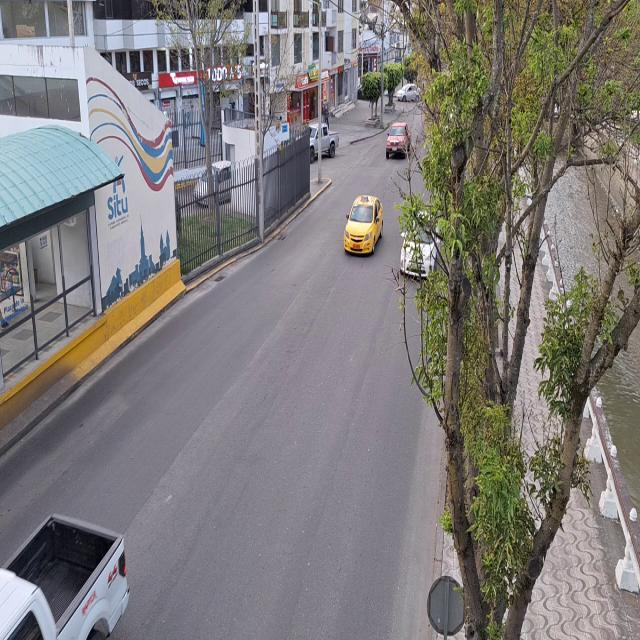CMT: (0, 508, 132, 640), (387, 123, 408, 158)
SED: (343, 194, 383, 255)
